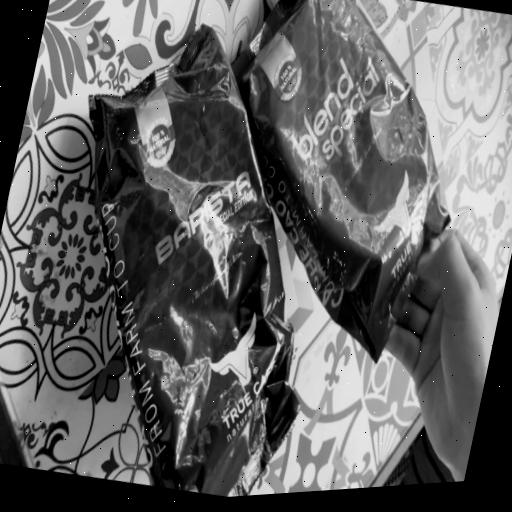cafe_hat: (88, 25, 298, 497)
cafe_xay: (232, 0, 448, 359)
